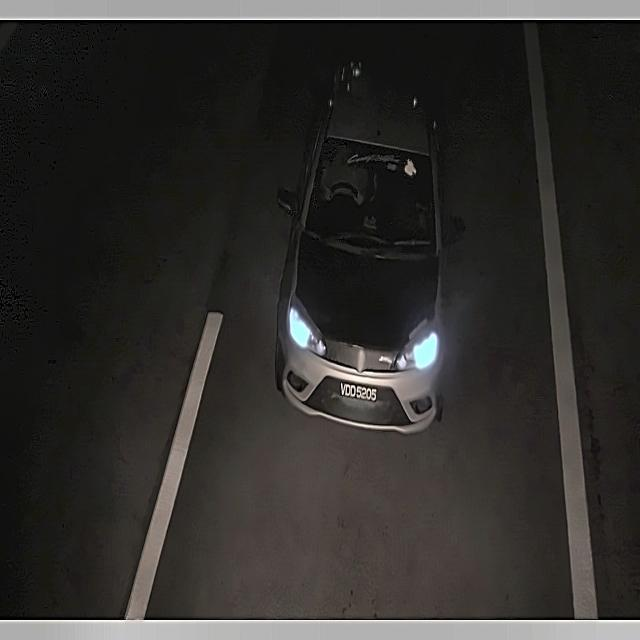car: (337, 372, 382, 409)
